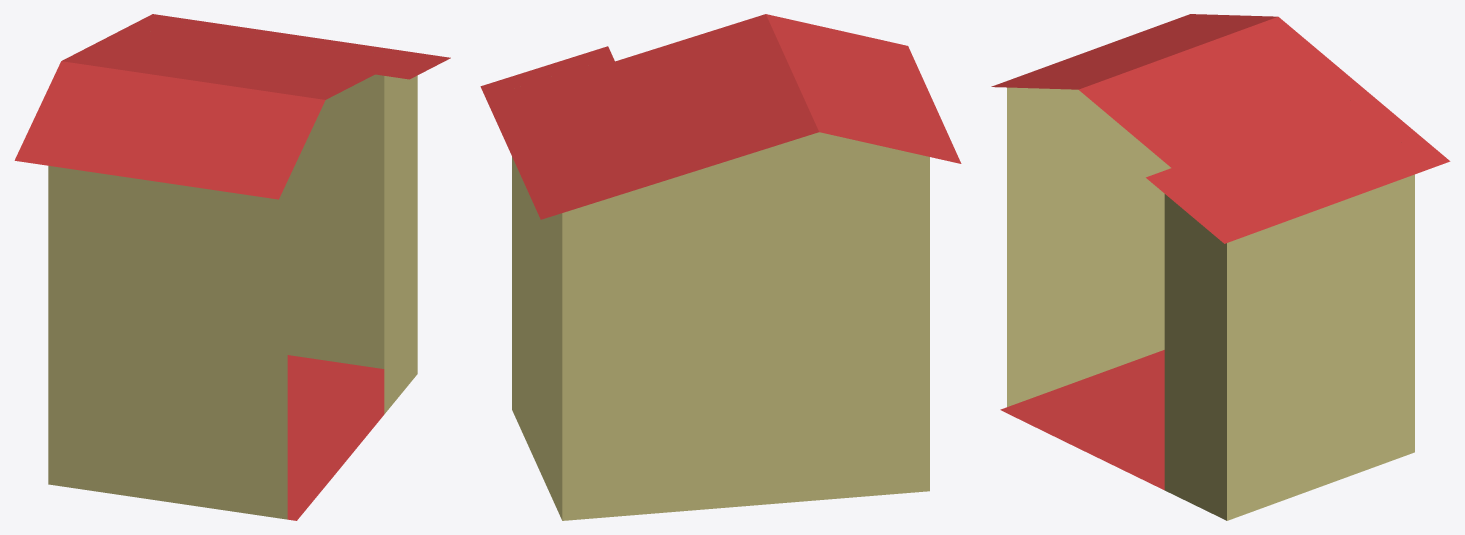
The picture shows the model from 3 angles, left to right: view 1: azimuth 30°, elevation 25°; view 2: azimuth 150°, elevation 25°; view 3: azimuth 270°, elevation 25°; orthographic projection. The views are drawn at different scales.
Size of the model in its own units: 9.86 by 9.14 by 7.73.
